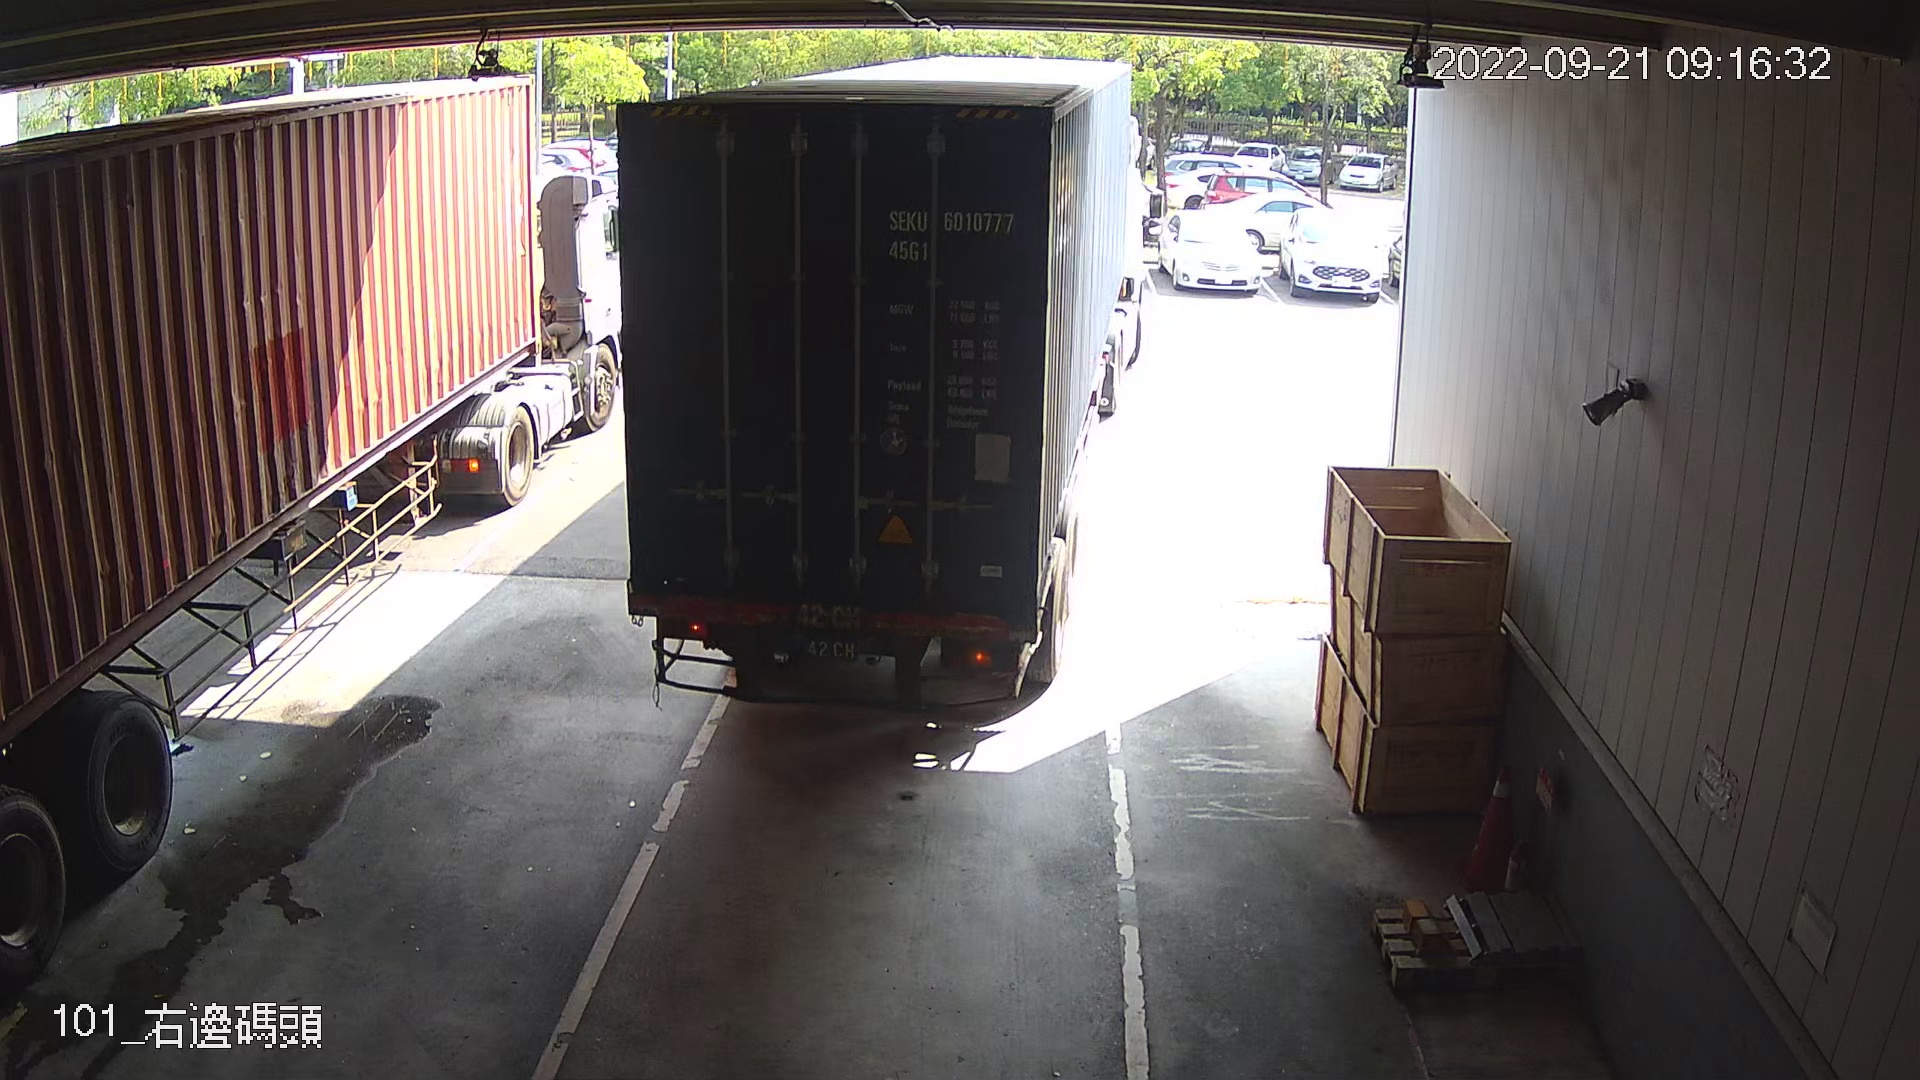container: (880, 199, 1023, 269)
